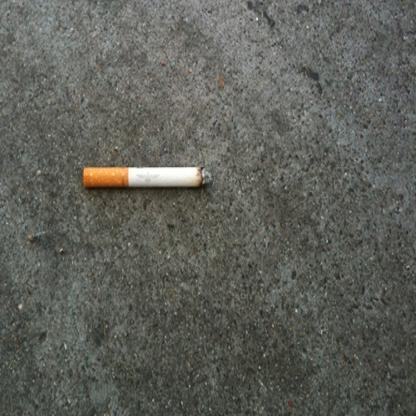trash: (84, 168, 212, 188)
